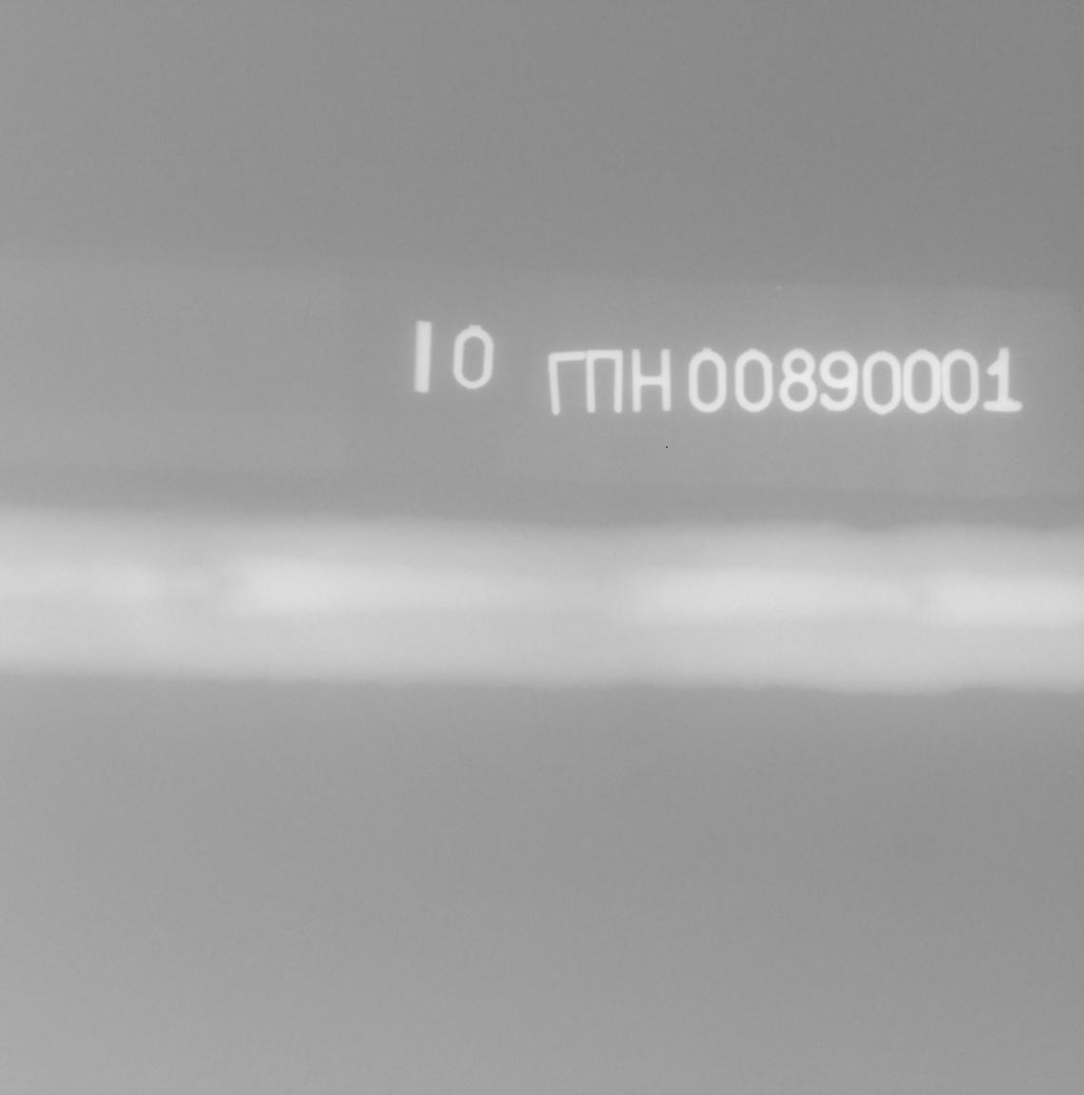Inclusion: (220, 582, 225, 585)
